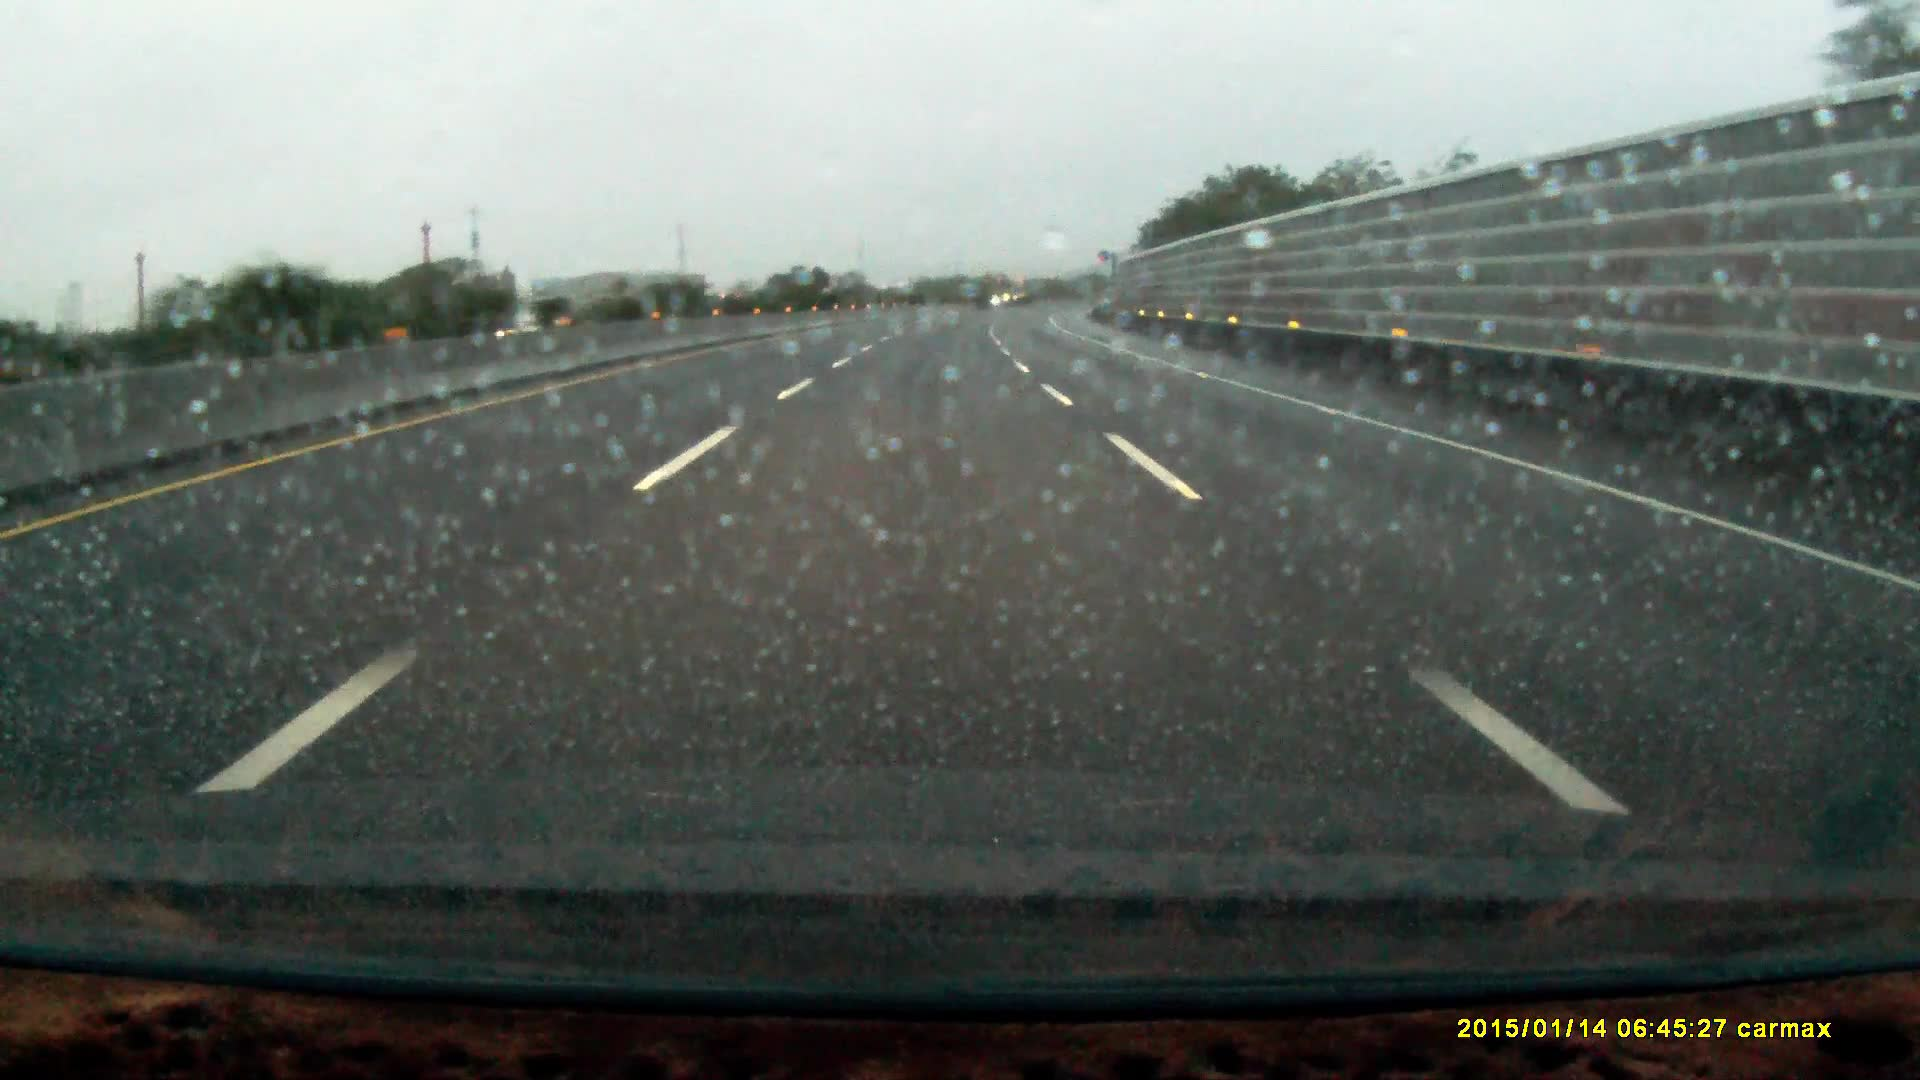vehicle: (475, 307, 555, 338)
